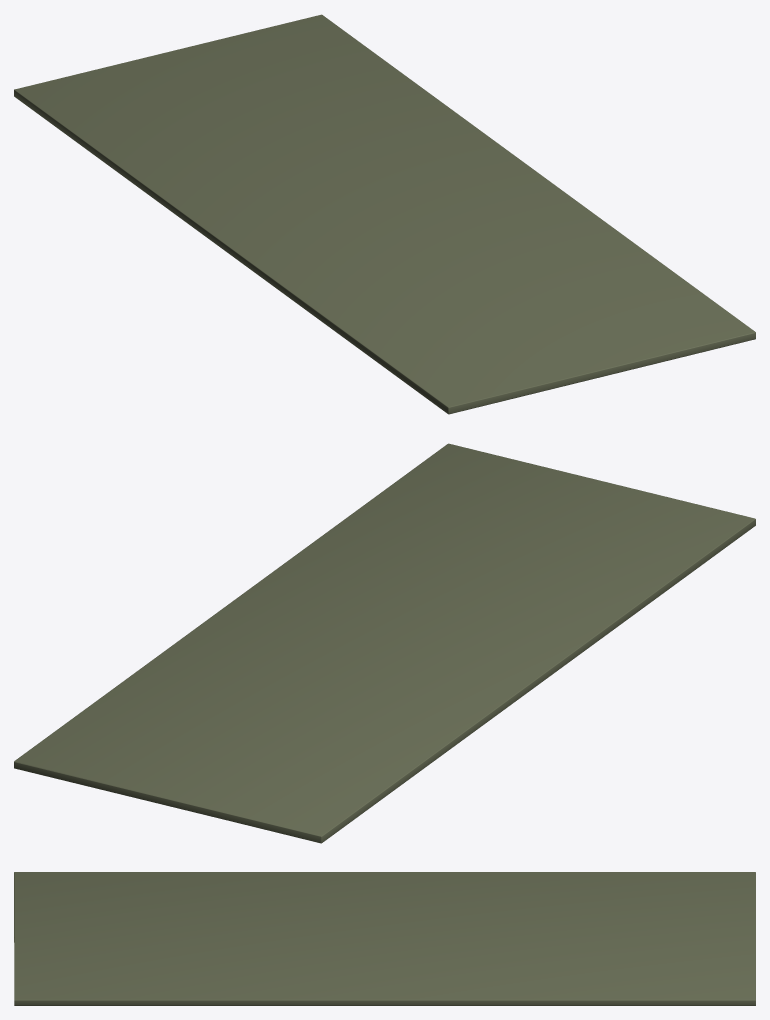
Rendered from furniture_1.glb.
The picture shows the model from 3 angles, top to bottom: view 1: azimuth 30°, elevation 25°; view 2: azimuth 150°, elevation 25°; view 3: azimuth 270°, elevation 25°; orthographic projection. The views are drawn at different scales.
Visible parts, largest first — view 1: GF_Fix_Island_Top; view 2: GF_Fix_Island_Top; view 3: GF_Fix_Island_Top.
Part boxes in pixels (box(x1,y1,x2,y2)): GF_Fix_Island_Top: box(14, 14, 755, 414); GF_Fix_Island_Top: box(14, 443, 755, 843); GF_Fix_Island_Top: box(14, 872, 755, 1005).
Bounding box in the file's own units: 0.8994 × 0.0205 × 2.2.
